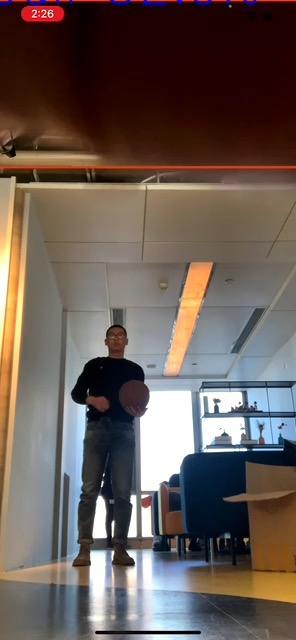ball: (118, 378, 149, 410)
